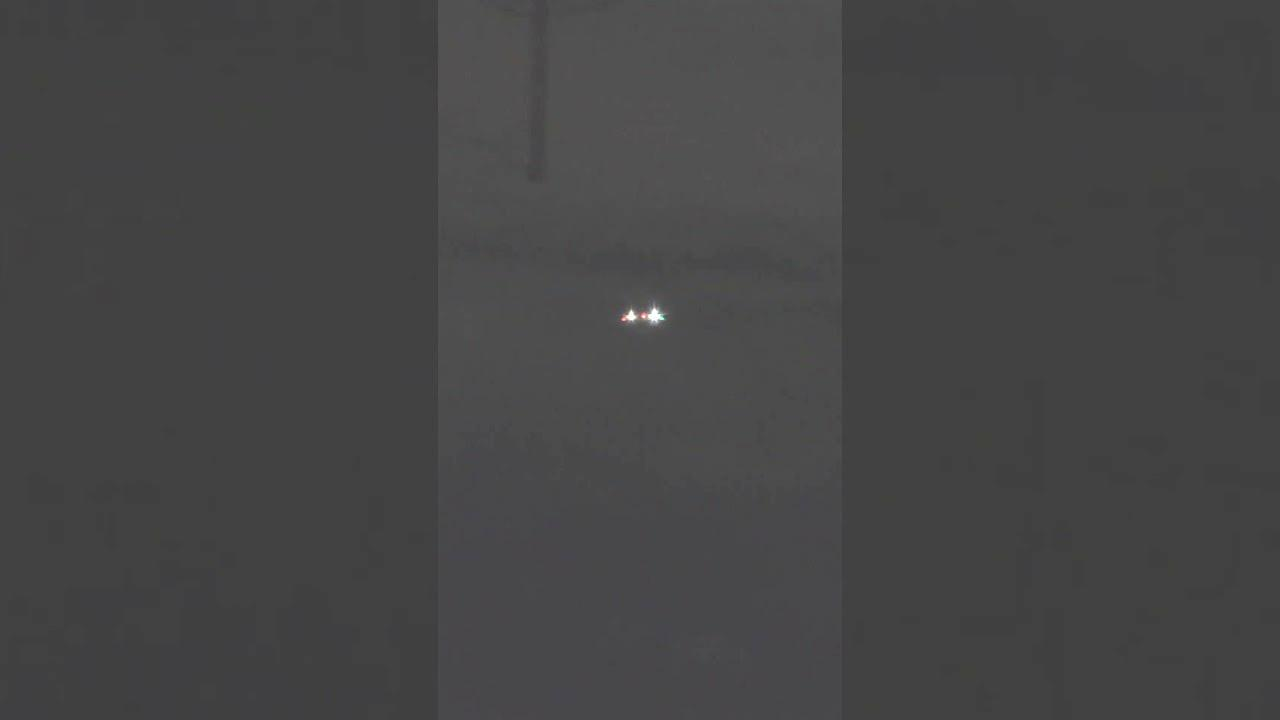Plane: (587, 289, 701, 342)
